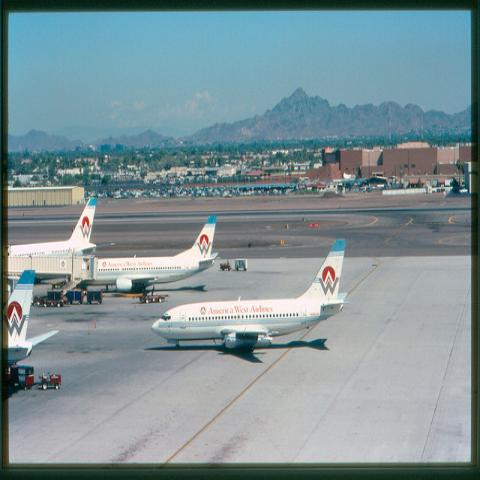truck: (35, 371, 61, 391), (235, 259, 247, 271)
